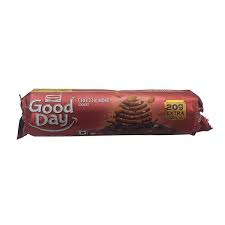gooday-small-choco: (16, 88, 206, 134)
